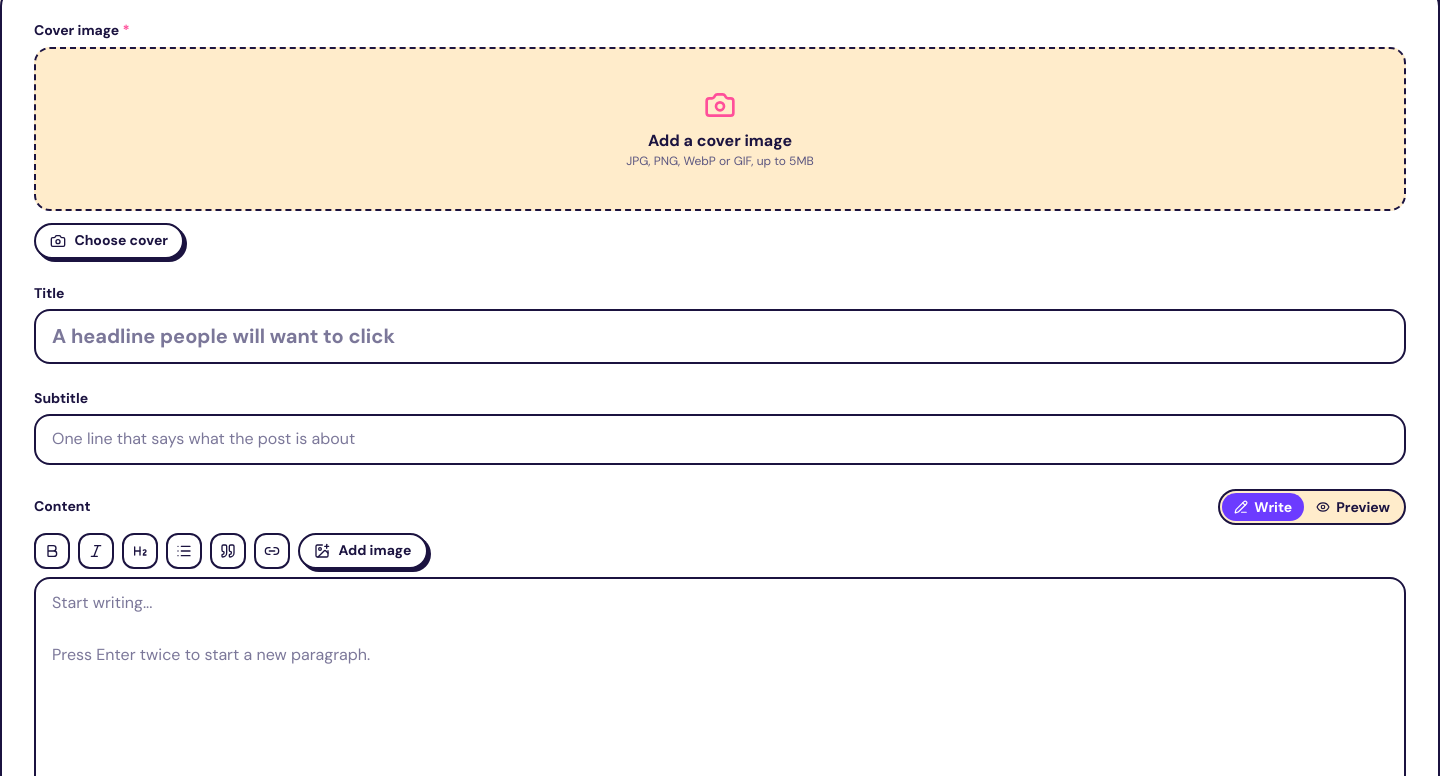
Test: PostEditor (new post) › applies toolbar formatting
The image size is (1440, 776).
Click the button named "Bold" at coordinates (52, 550), box x1=34 y1=532 x2=70 y2=568
(page scrolled)
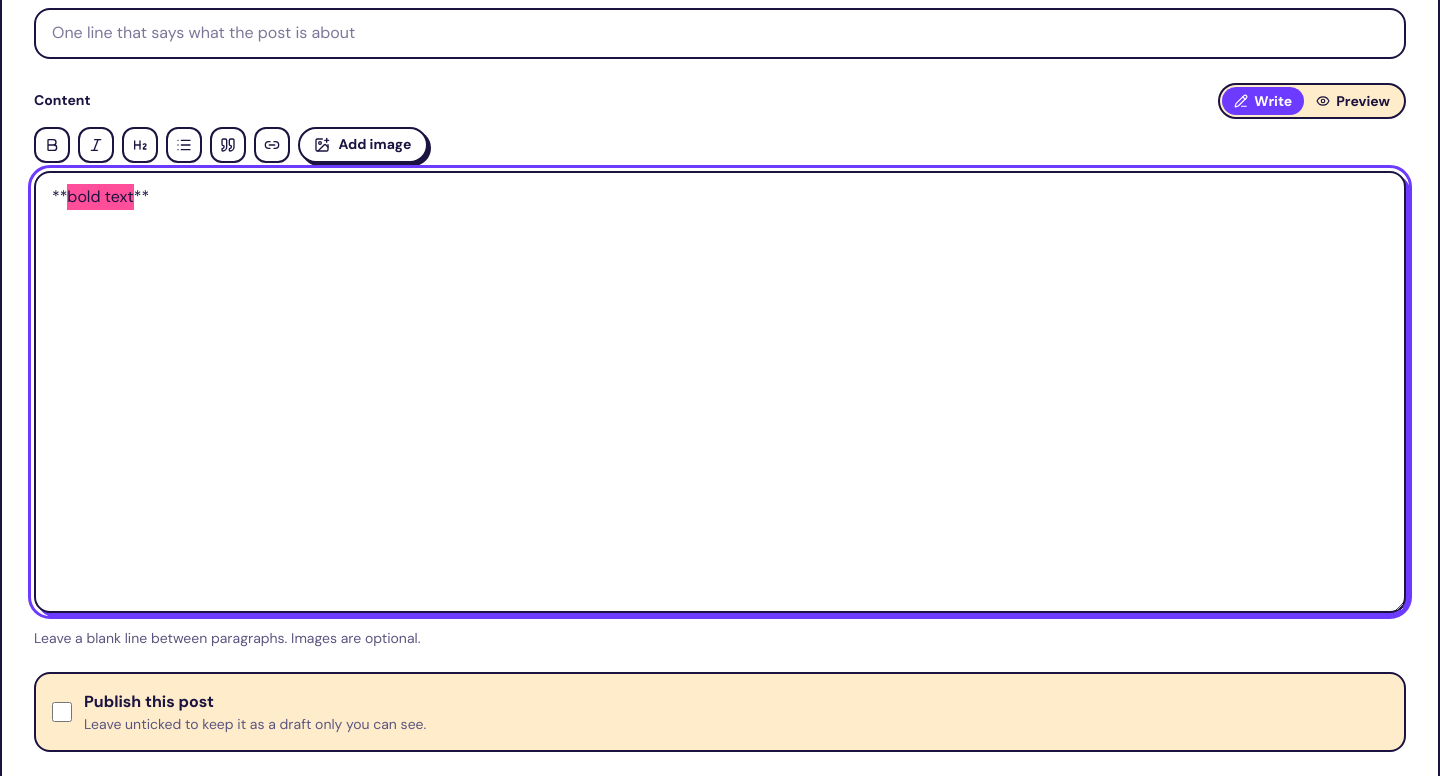
expect the text box labelled "Content" holds "**bold text**": met, box x1=34 y1=170 x2=1406 y2=613
